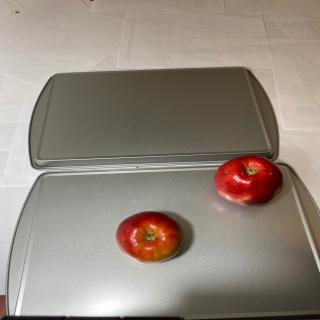Apple: (213, 155, 286, 207), (115, 211, 183, 264)
